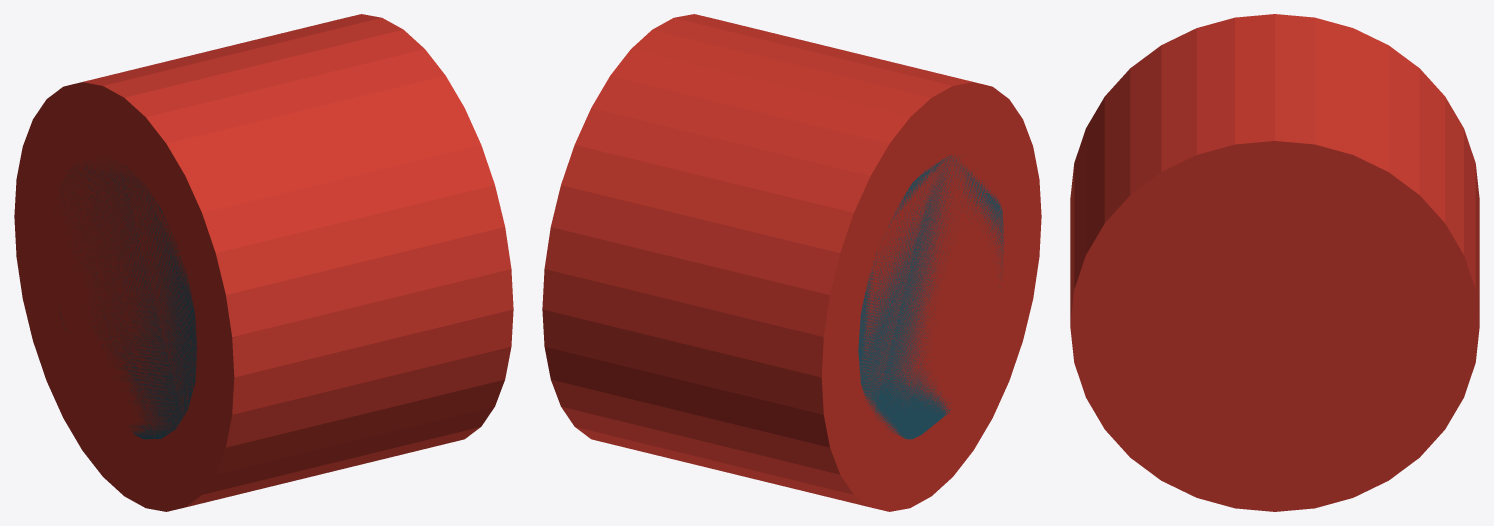
The model's file is power_meter.glb.
The picture shows the model from 3 angles, left to right: view 1: azimuth 30°, elevation 25°; view 2: azimuth 150°, elevation 25°; view 3: azimuth 270°, elevation 25°; orthographic projection. The views are drawn at different scales.
Parts seen in each view (by area): view 1: power_meter; view 2: power_meter; view 3: power_meter.
Part boxes in pixels (x1,y1,x2,y2): power_meter: [14, 14, 513, 511]; power_meter: [542, 14, 1041, 511]; power_meter: [1070, 14, 1479, 511].
Size of the model in its own units: 22 by 30 by 30.
